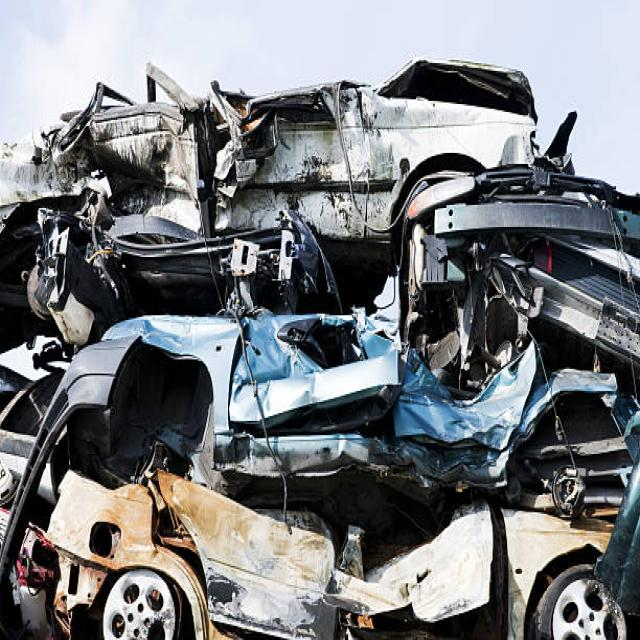metal: (21, 88, 626, 620)
